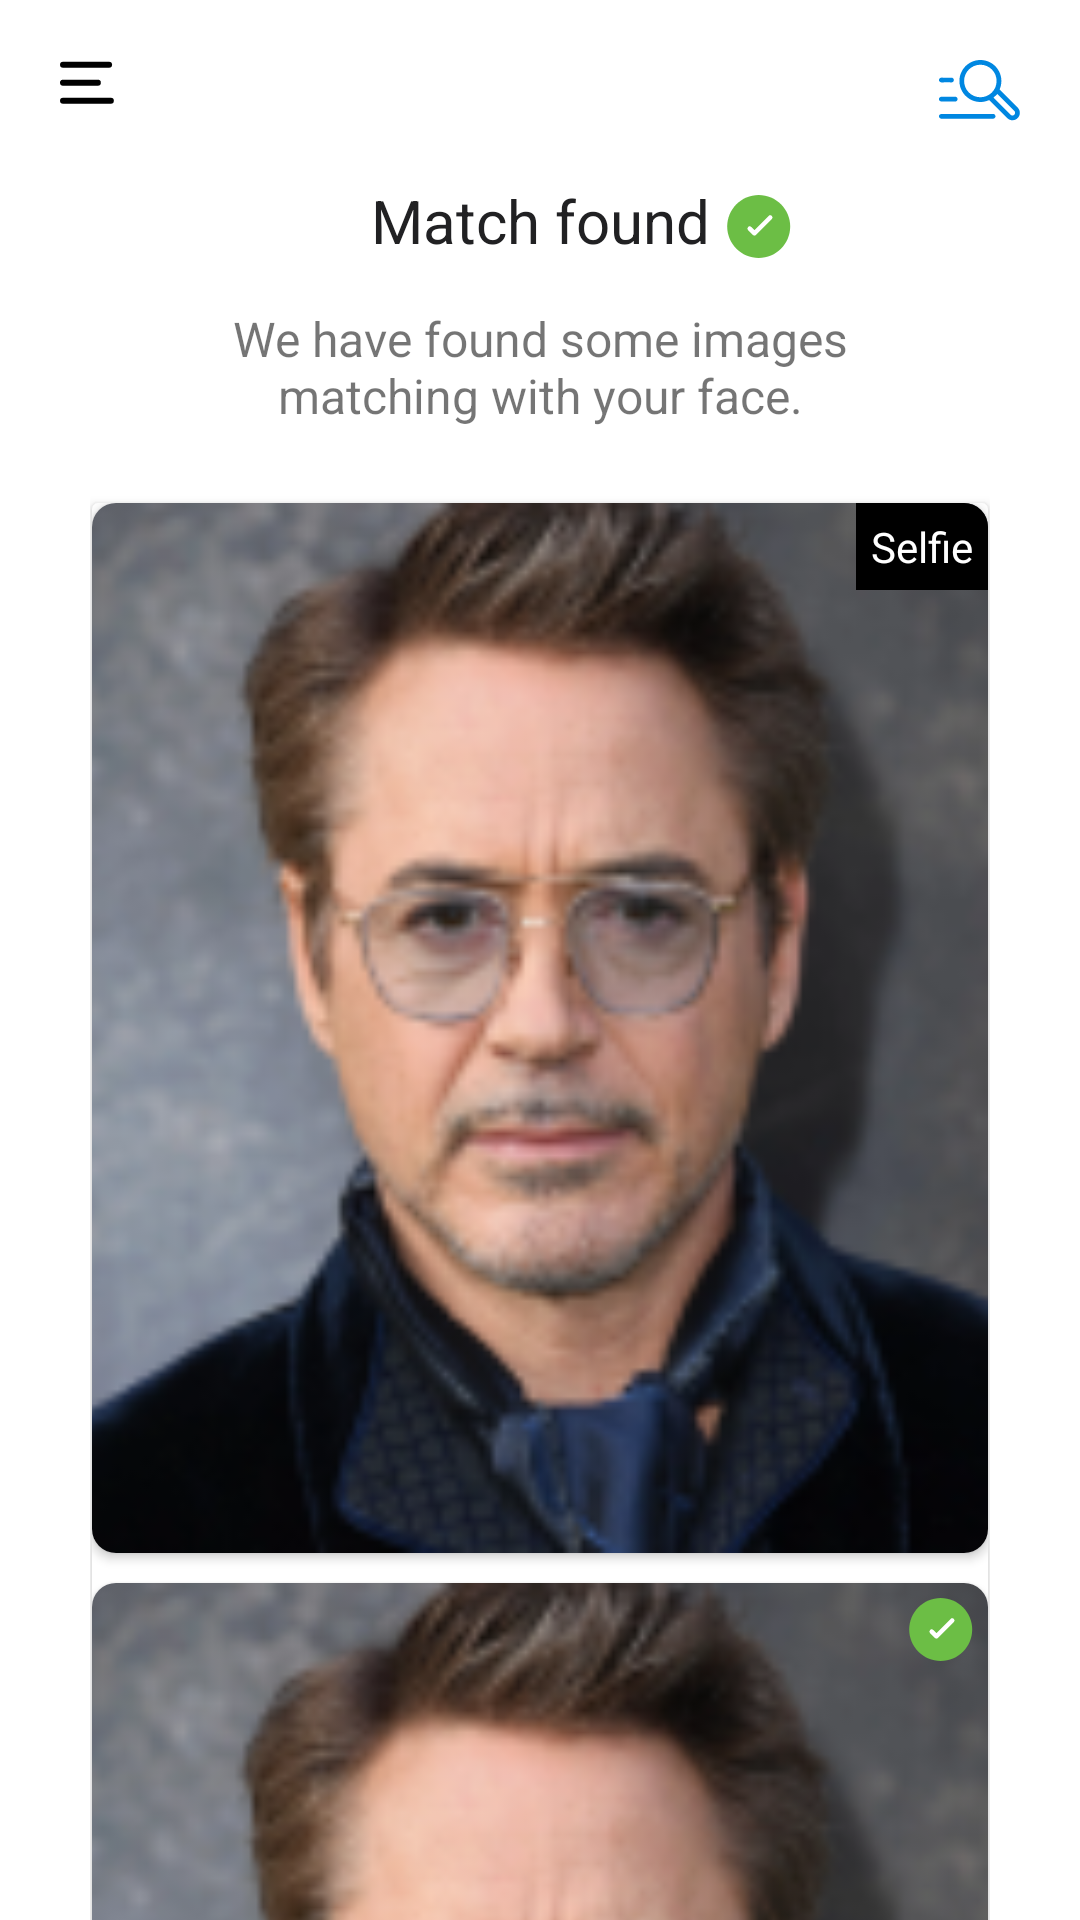

Icon bounding boxes for this 1080 x 1920 phone screenshot, format box=[x1, y1, x2, y2]:
hamb: box=[60, 61, 114, 104]
search: box=[939, 60, 1020, 121]
